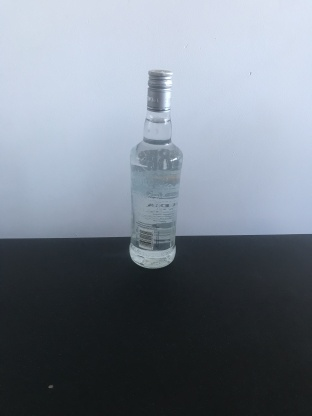nakretka: (144, 67, 174, 115)
